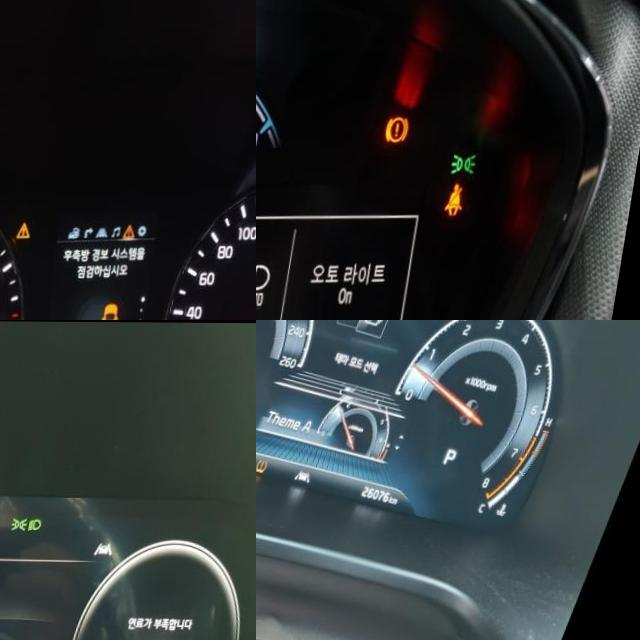Central Warning lamp: (25, 221, 41, 238)
LaneCenteringOff: (306, 467, 326, 482)
Low beam: (34, 517, 48, 531)
SideLamp: (456, 150, 483, 173), (16, 516, 34, 530)
